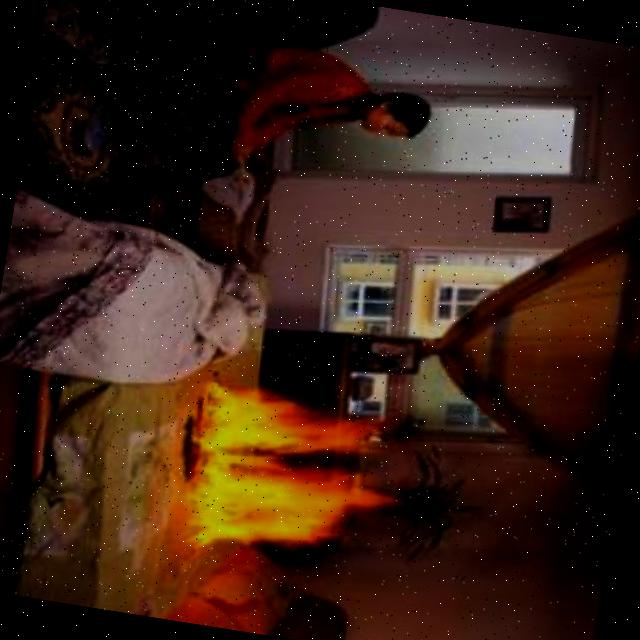fire: (164, 344, 419, 577)
